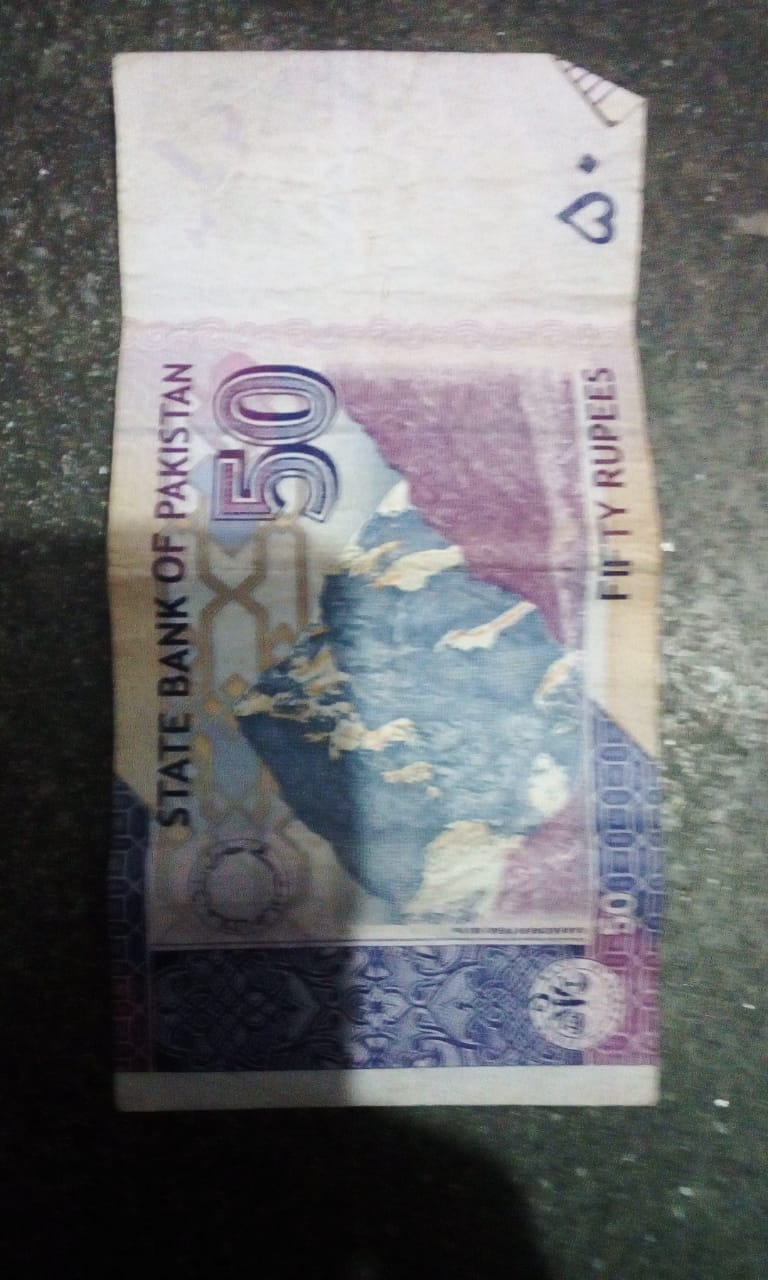50 rupee: (87, 33, 667, 1138)
